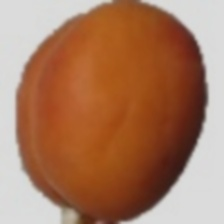apricot: (27, 34, 170, 171)
